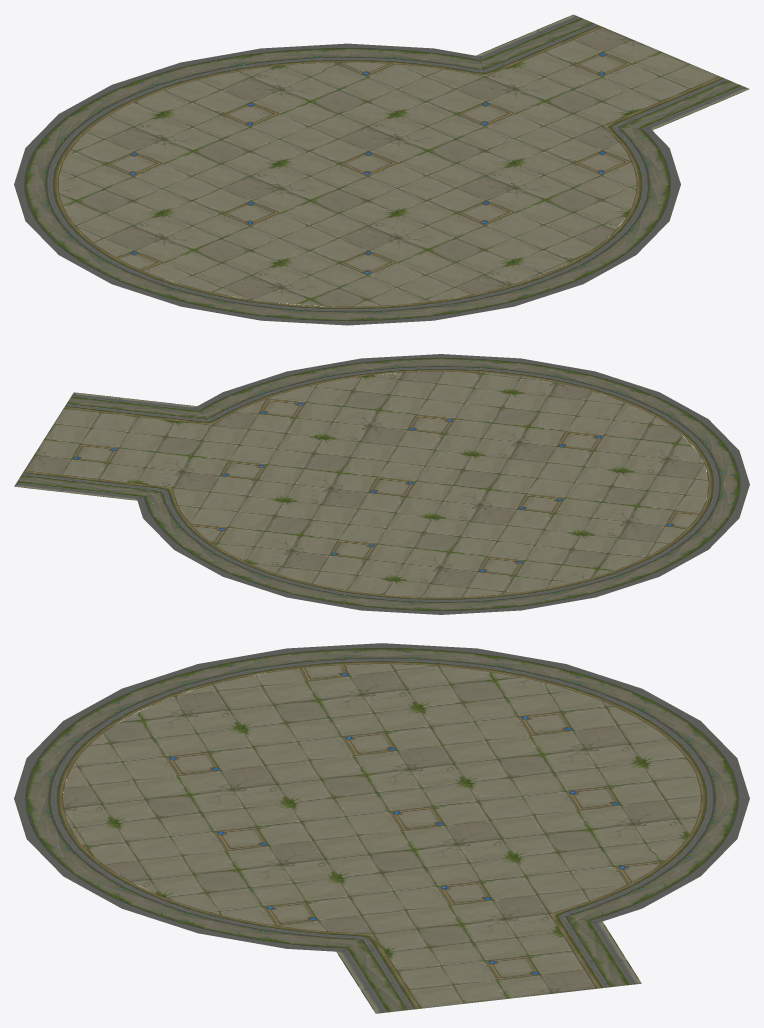
The model's file is ZC_dibiao02.FBX.
3 views of the same model, one above another, from view 1: azimuth 30°, elevation 25°; view 2: azimuth 150°, elevation 25°; view 3: azimuth 270°, elevation 25° (orthographic). The views are drawn at different scales.
Visible parts, largest first — view 1: ZC_dibiao02_001; view 2: ZC_dibiao02_001; view 3: ZC_dibiao02_001.
Part boxes in pixels (<box>): ZC_dibiao02_001: <box>14,14,749,325</box>; ZC_dibiao02_001: <box>14,354,749,614</box>; ZC_dibiao02_001: <box>14,643,749,1013</box>.
Bounding box in the file's own units: 3243 × 0.00222 × 2721.
